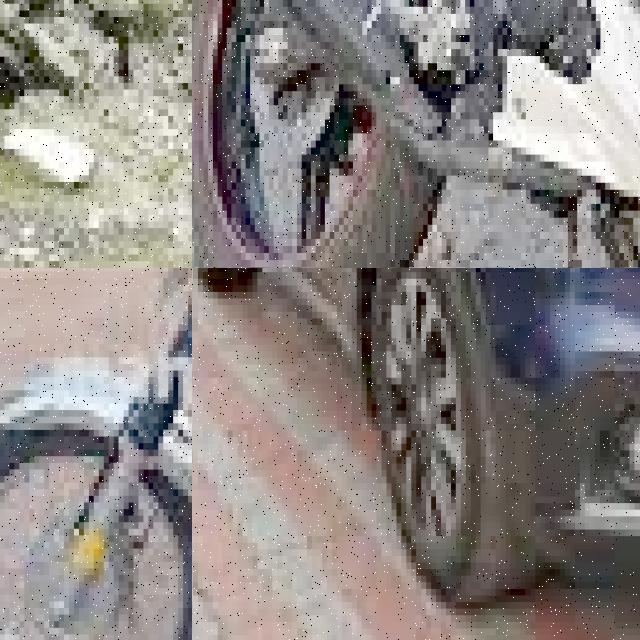bike: (192, 0, 640, 268), (0, 268, 192, 640)
car: (192, 268, 640, 635)
